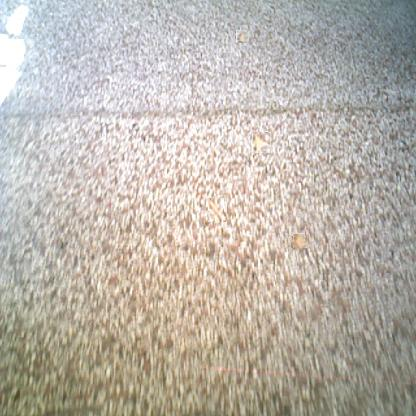dirty: (1, 3, 29, 111), (208, 198, 226, 222), (252, 131, 271, 153), (292, 235, 307, 249), (236, 30, 248, 43)
